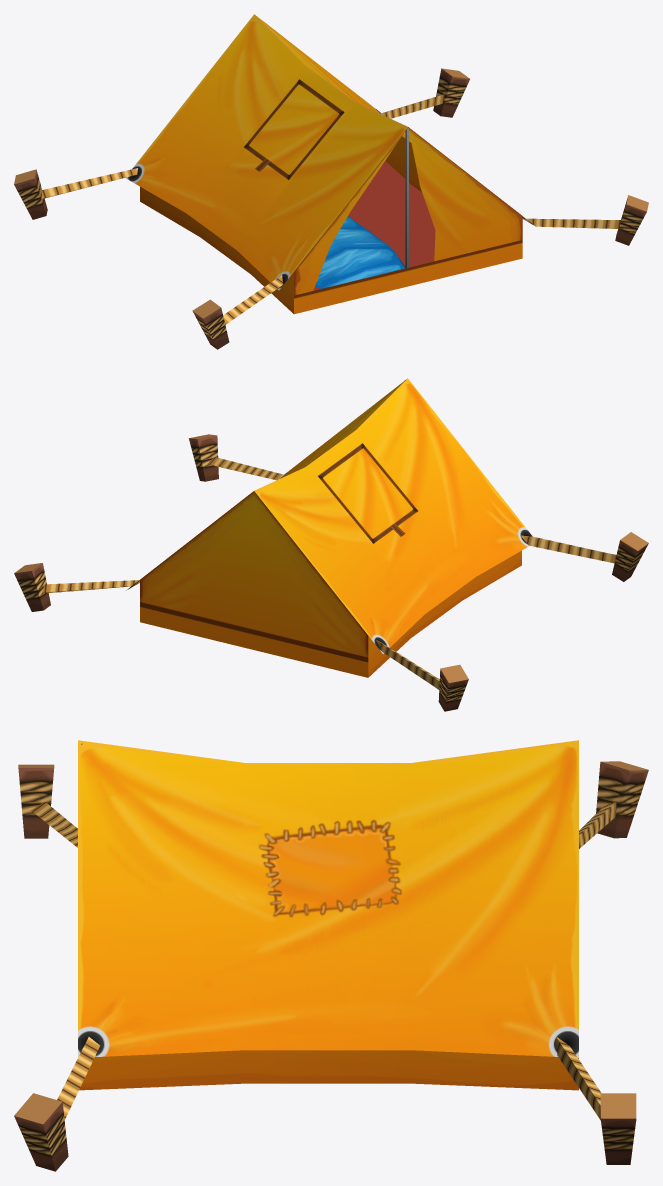
The model's file is tent_B.FBX.
3 views of the same model, one above another, from view 1: azimuth 30°, elevation 25°; view 2: azimuth 150°, elevation 25°; view 3: azimuth 270°, elevation 25° (orthographic). The views are drawn at different scales.
Visible parts, largest first — view 1: tent_B, sleepingBag001; view 2: tent_B; view 3: tent_B.
Boxes of the visible parts, bbox=[...] form: tent_B: bbox=[14, 14, 648, 349]; sleepingBag001: bbox=[315, 216, 405, 288]; tent_B: bbox=[14, 378, 648, 711]; tent_B: bbox=[14, 740, 648, 1171].
Size of the model in its own units: 360 by 121 by 266.
